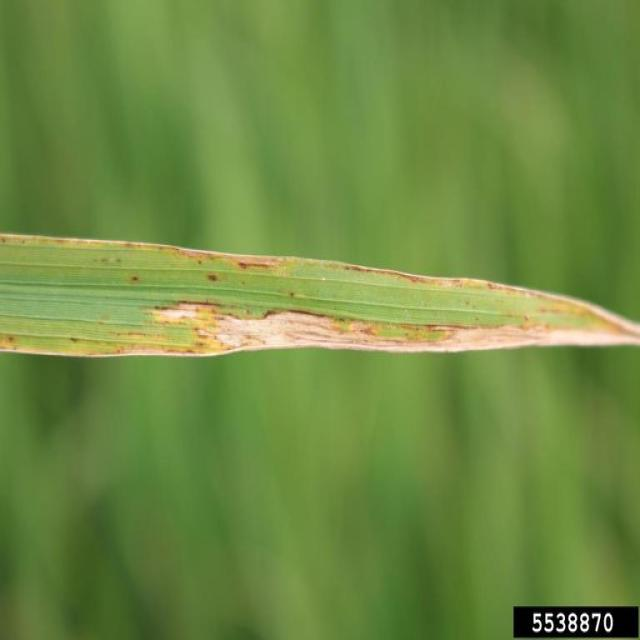Bacterial leaf blight: (69, 289, 610, 362), (103, 240, 180, 251), (89, 253, 129, 272), (6, 330, 27, 350), (38, 238, 72, 250), (462, 294, 482, 312), (69, 330, 87, 348), (205, 268, 223, 282), (128, 273, 144, 287), (287, 287, 300, 302), (14, 237, 30, 248), (317, 273, 334, 283), (236, 262, 255, 270), (192, 258, 207, 268), (241, 278, 255, 286), (0, 235, 9, 247)
